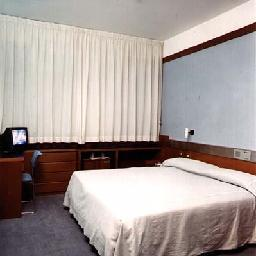Cama: (63, 165, 254, 249)
